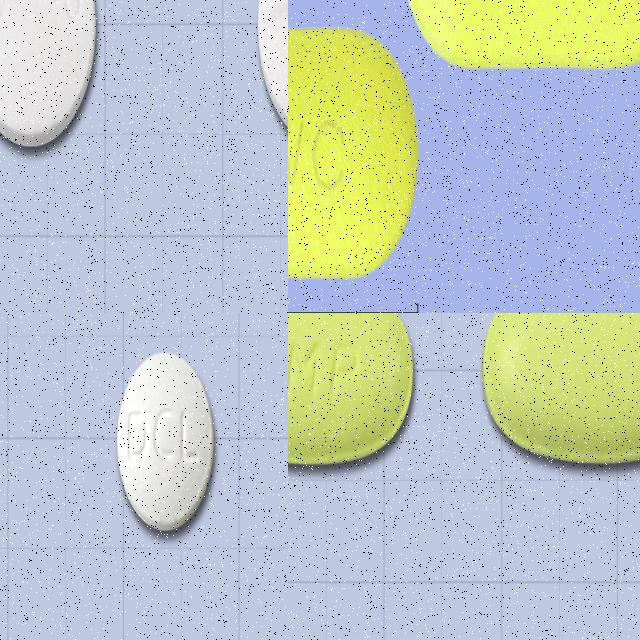Ciprofloxacin HCl Tab- Unimed: (0, 0, 102, 152)
Clacid - 250mg: (288, 17, 425, 289), (398, 0, 640, 74)
Clari: (479, 313, 640, 472), (288, 313, 420, 472)
Dongkoo Levofloxacin Hydrate Tab: (116, 350, 216, 533)
